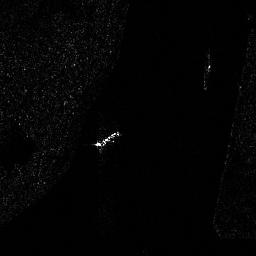ship: (96, 130, 120, 149)
